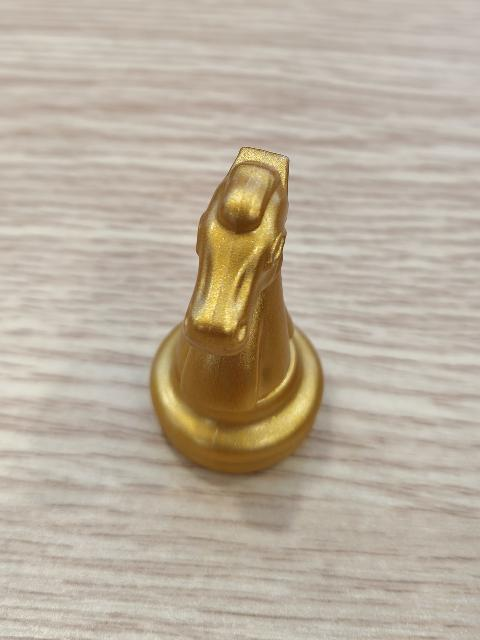black_knight: (155, 146, 327, 473)
